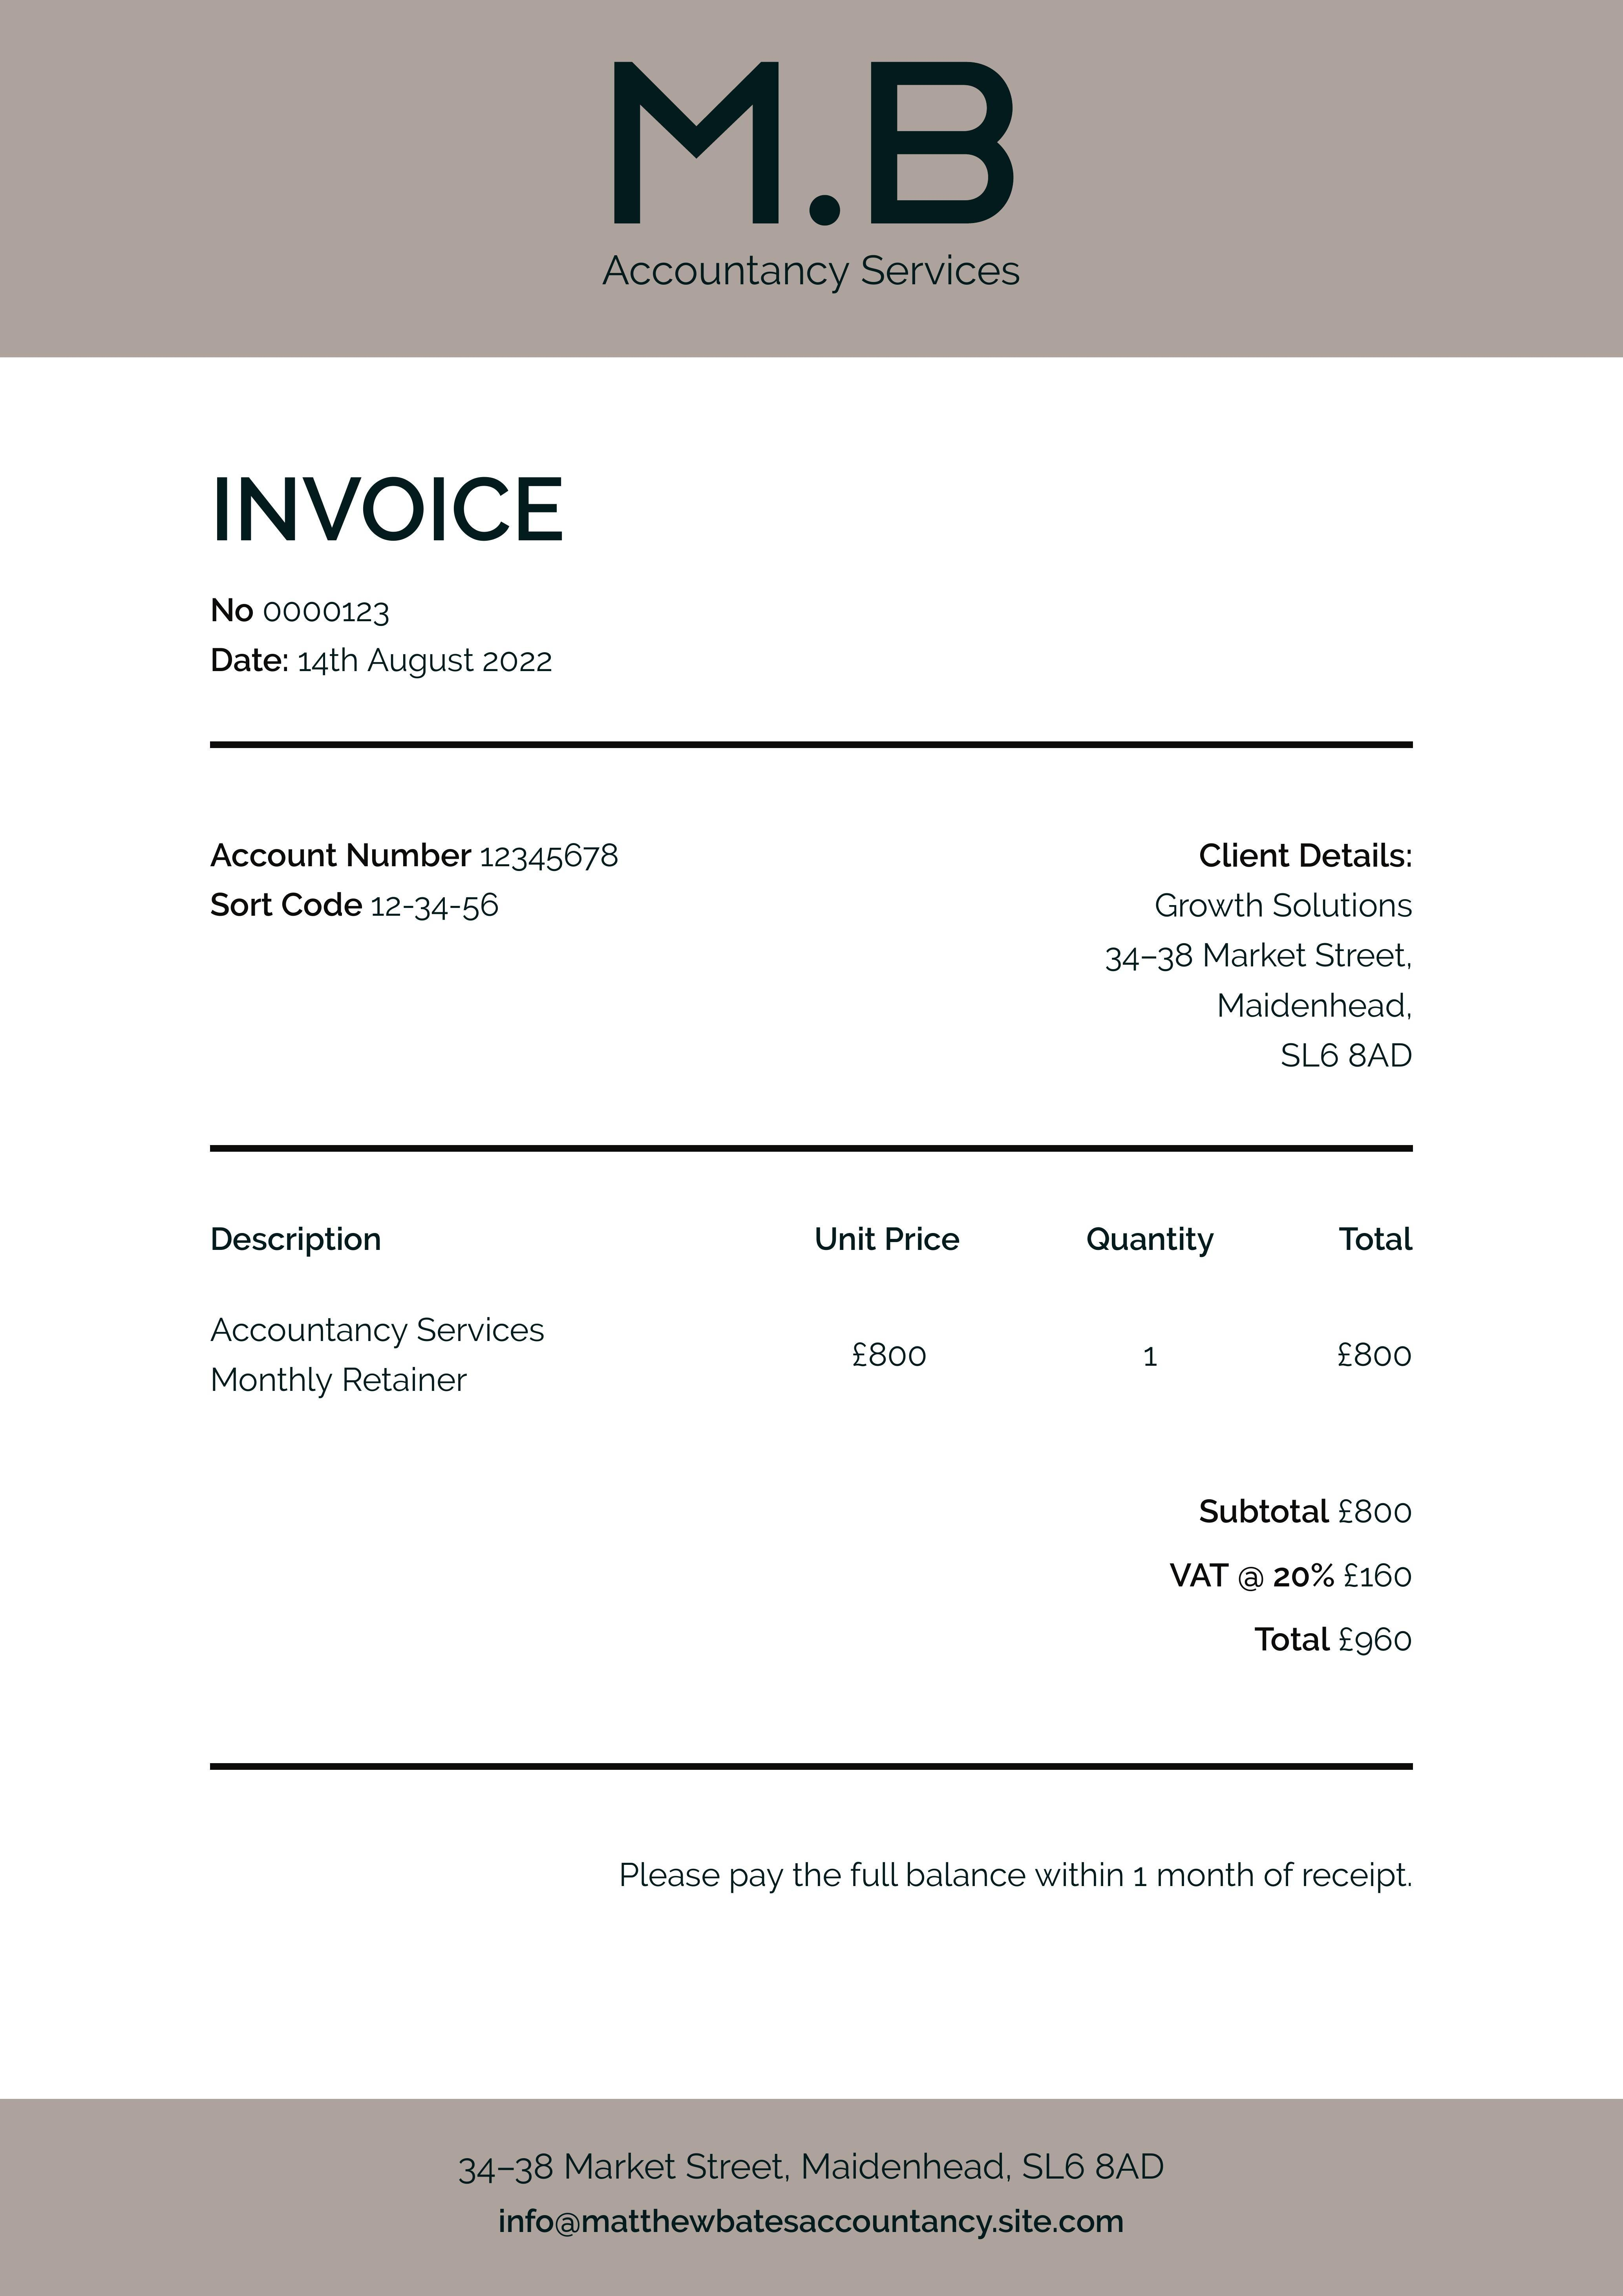ROI: (199, 1207, 1435, 1427), (603, 32, 1027, 304), (1101, 827, 1420, 1081), (1165, 1479, 1417, 1685), (610, 1852, 1417, 1906), (203, 586, 559, 677)
